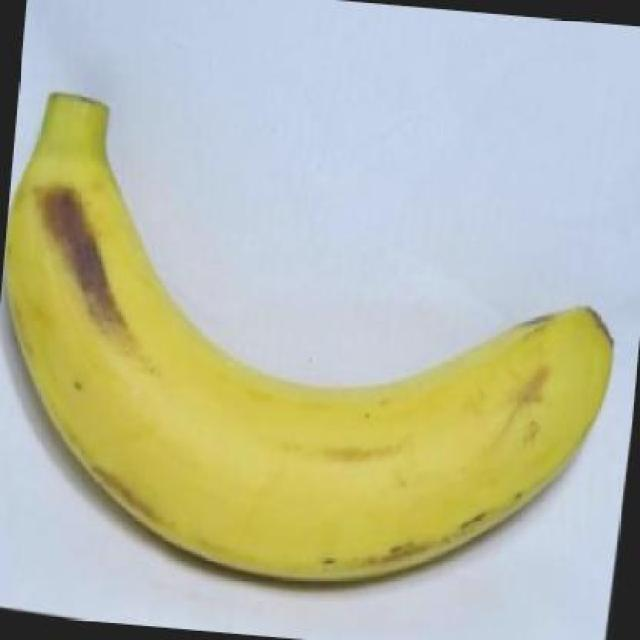ripe: (0, 88, 640, 588)
